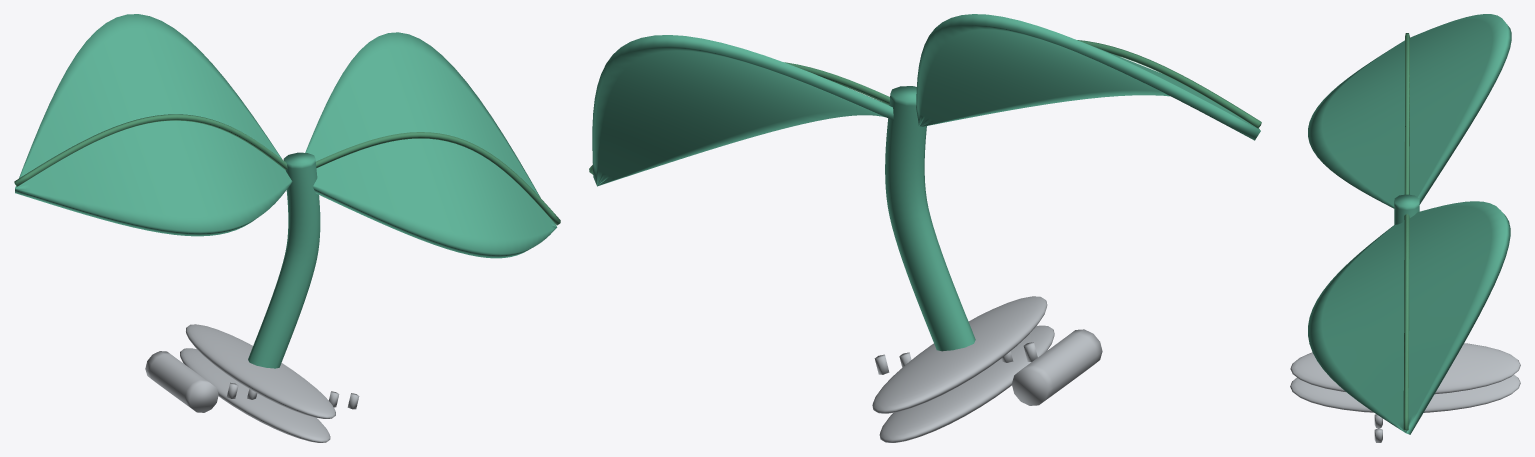
File: Masculine-flow-sprout.glb
3 renders of one model, left to right at view 1: azimuth 30°, elevation 25°; view 2: azimuth 150°, elevation 25°; view 3: azimuth 270°, elevation 25°, orthographic. The views are drawn at different scales.
Parts seen in each view (by area): view 1: 226 extra / Accessory / mint226, 226 extra / Sprout / clip silver235, 226 extra / Sprout / leaf vein235; view 2: 226 extra / Accessory / mint226, 226 extra / Sprout / clip silver235, 226 extra / Sprout / leaf vein235; view 3: 226 extra / Accessory / mint226, 226 extra / Sprout / clip silver235, 226 extra / Sprout / leaf vein235.
Part boxes in pixels (x1,y1,x2,y2): 226 extra / Accessory / mint226: (15, 14, 557, 368); 226 extra / Sprout / clip silver235: (145, 324, 359, 442); 226 extra / Sprout / leaf vein235: (14, 114, 560, 225); 226 extra / Accessory / mint226: (592, 14, 1260, 351); 226 extra / Sprout / clip silver235: (872, 296, 1102, 442); 226 extra / Sprout / leaf vein235: (589, 40, 1261, 174); 226 extra / Accessory / mint226: (1308, 14, 1511, 434); 226 extra / Sprout / clip silver235: (1290, 343, 1520, 442); 226 extra / Sprout / leaf vein235: (1403, 33, 1409, 430).
Bounding box in the file's own units: 0.2162 × 0.1444 × 0.0873.
